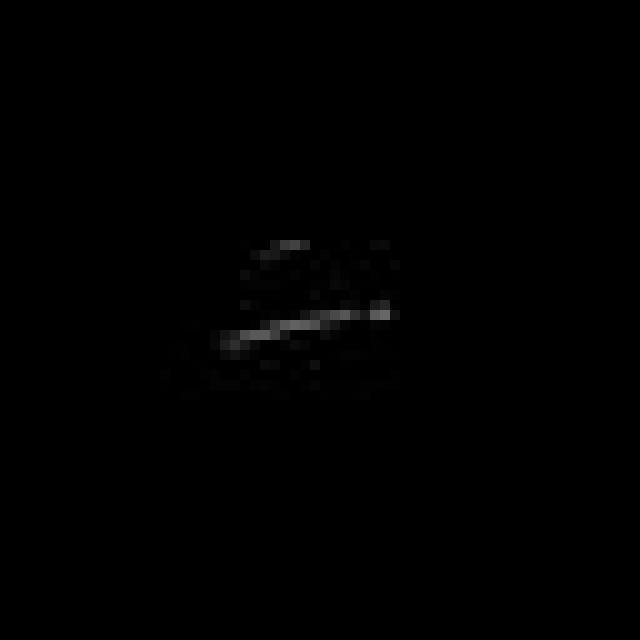2 -two-: (210, 224, 419, 363)
